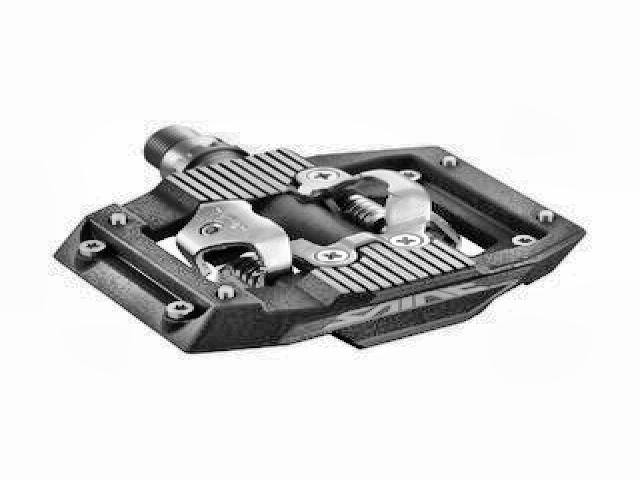pedal: (49, 120, 592, 361)
